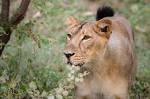lion: (61, 15, 138, 99)
